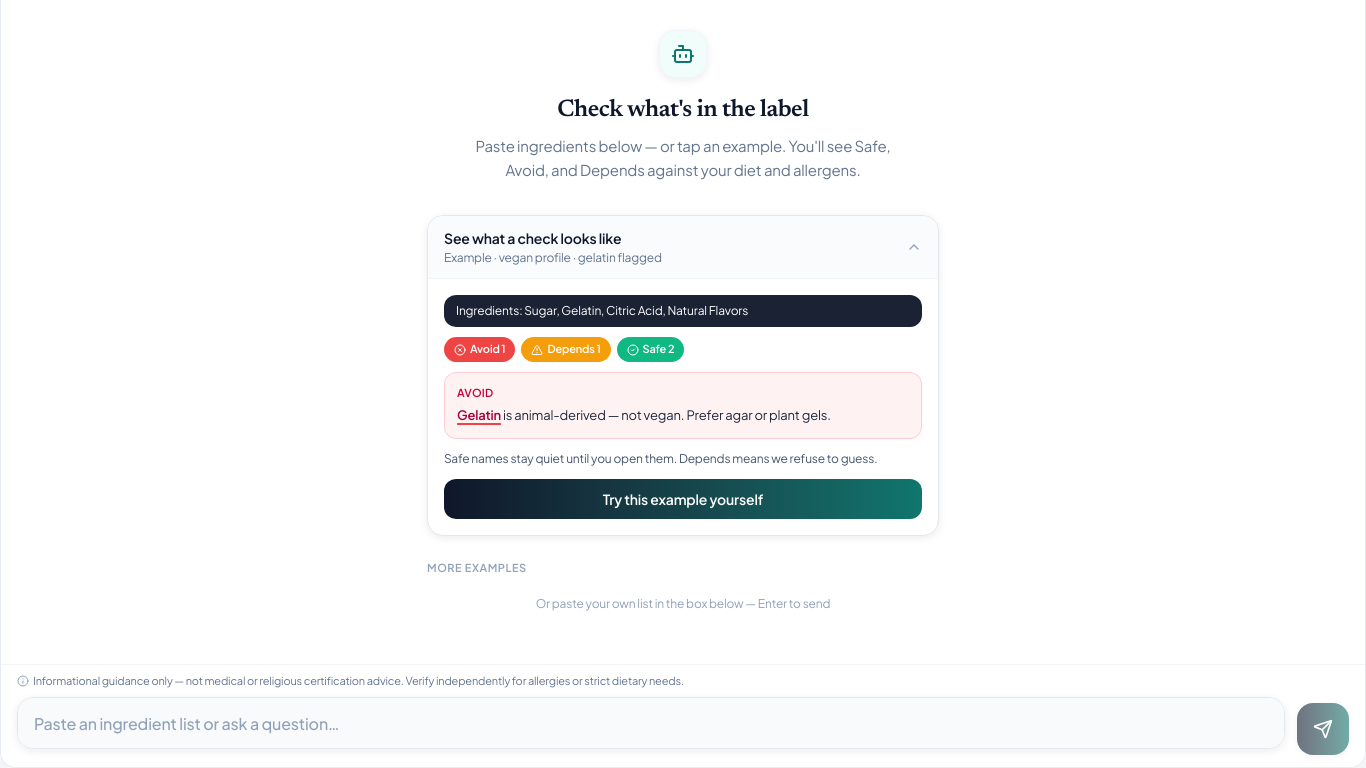
it: ChatInterface › shows empty state and displays error message when chat request fails
(page scrolled)
Type "Is this vegan?" into the text box with placeholder "Paste an ingredient list or ask a question…". click: (651, 722)
box: [17,696,1285,748]
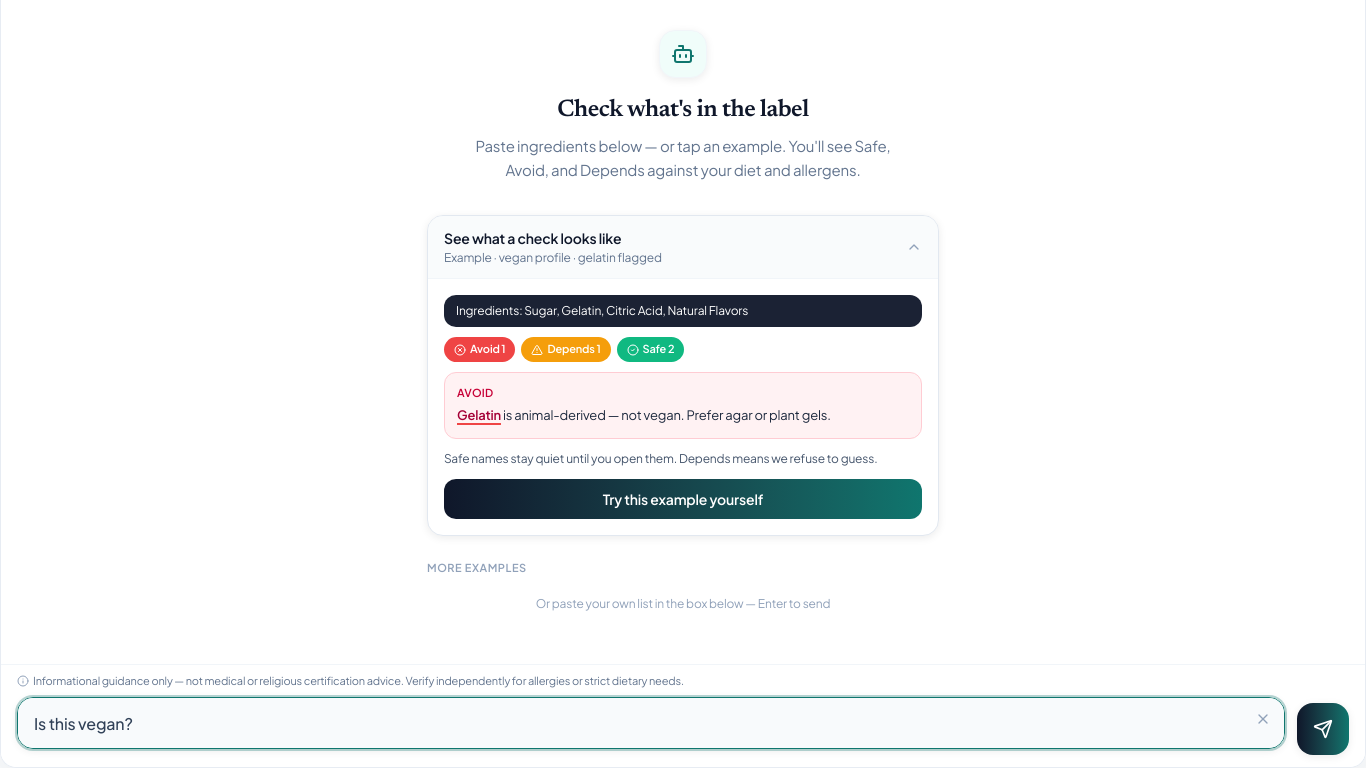
Expected: the form with placeholder "Paste an ingredient" is shown, [1,664,1365,766]
Click the submit button. click: (1323, 728)
box: [1297,702,1349,754]
(page scrolled)
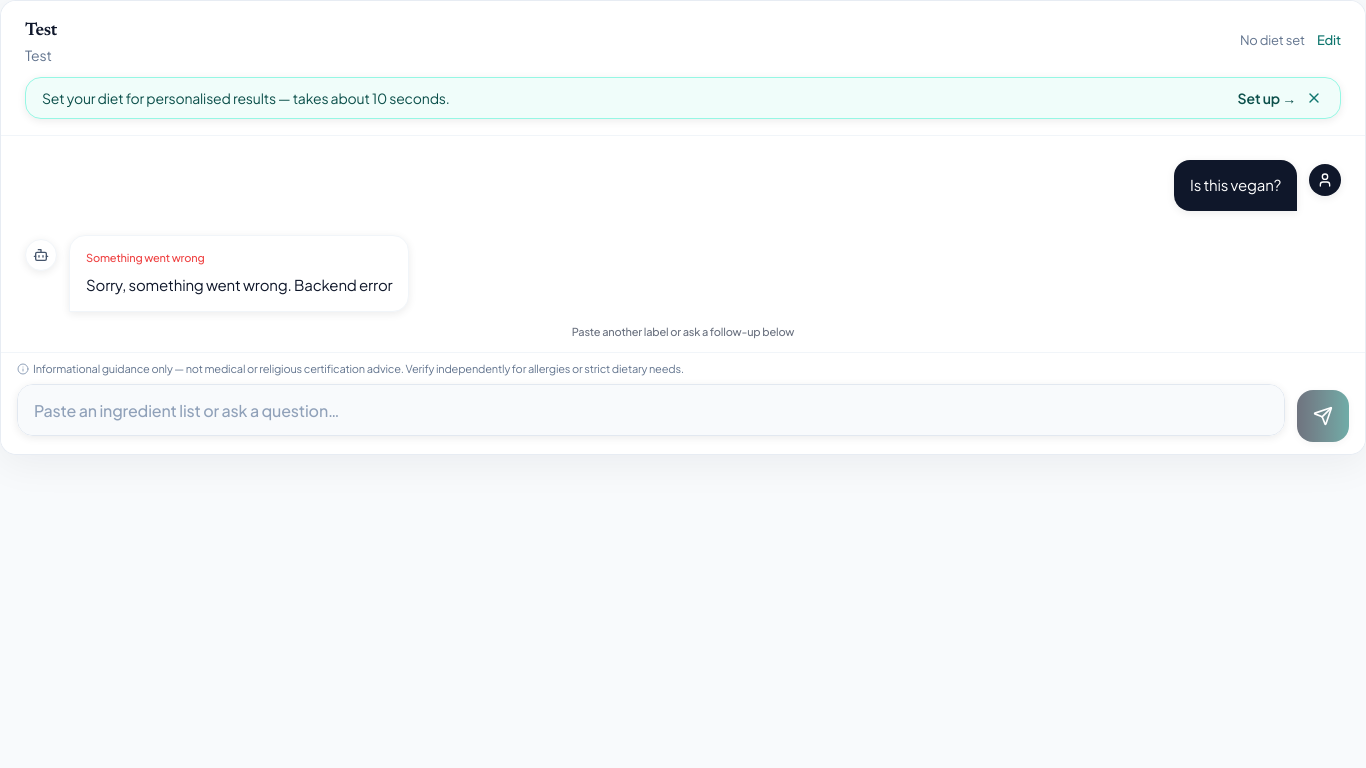
Expected: the text "Sorry, something went wrong. Backend error" is shown, [86,274,392,296]
